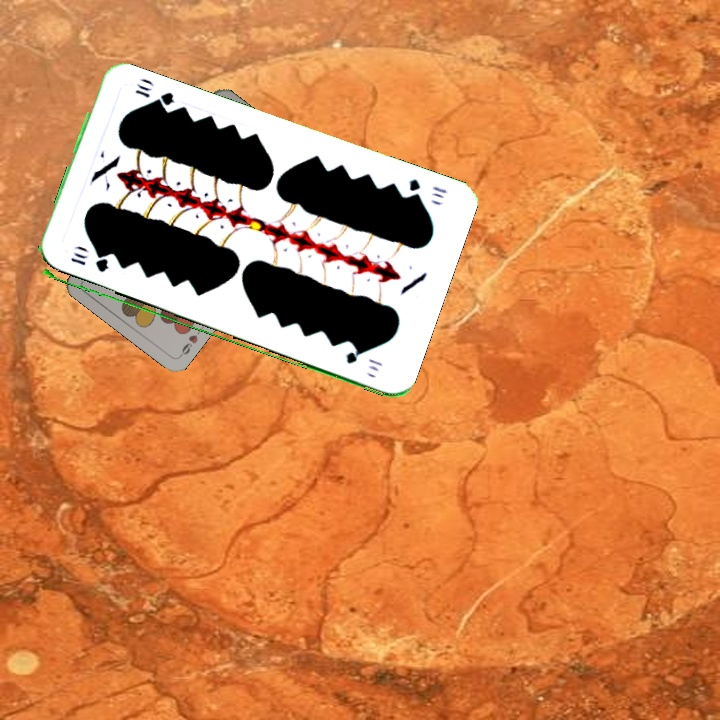G10: (404, 175, 450, 203), (66, 253, 111, 275)
H9: (176, 325, 205, 359)
